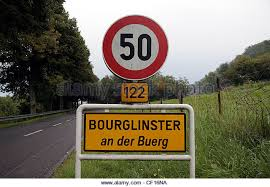Speed_limit_50km: (100, 15, 168, 80)
